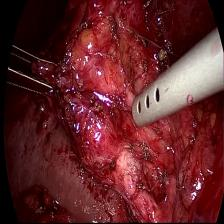Grasper: (2, 28, 64, 104)
Irrigator: (130, 70, 180, 131)
